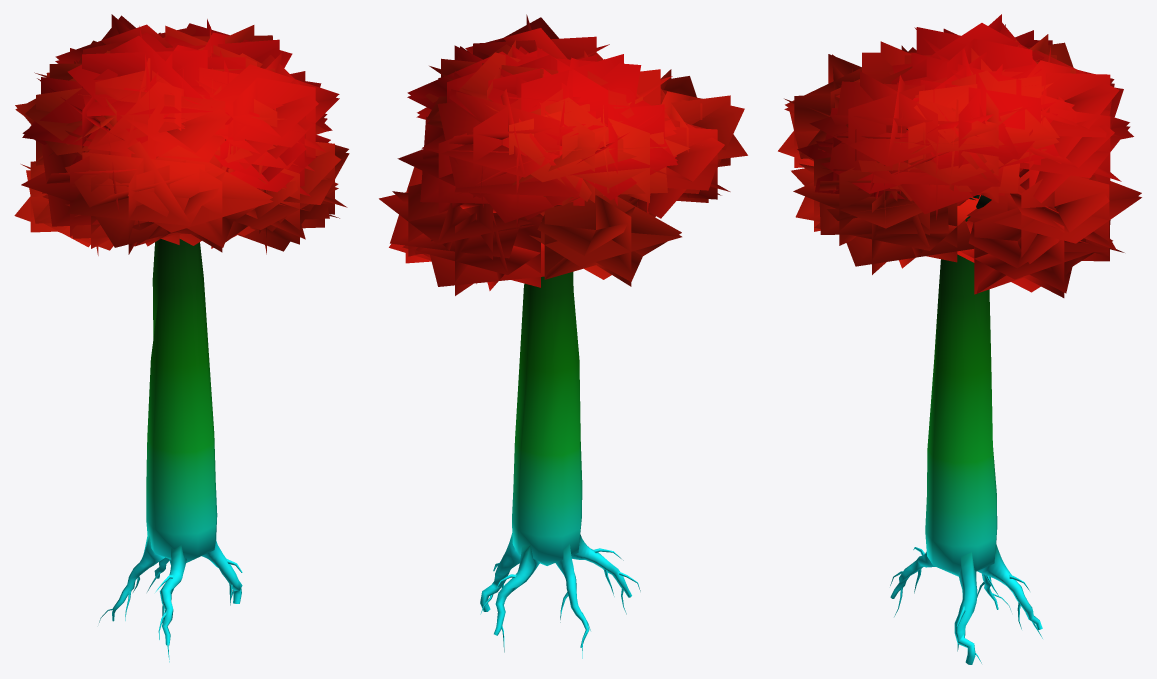
The model's file is Baobab2.fbx.
3 views of the same model, side by side, from view 1: azimuth 30°, elevation 25°; view 2: azimuth 150°, elevation 25°; view 3: azimuth 270°, elevation 25° (orthographic). The views are drawn at different scales.
Visible parts, largest first — view 1: Baobab2_LOD0; view 2: Baobab2_LOD0; view 3: Baobab2_LOD0.
Boxes of the visible parts, <box> form: Baobab2_LOD0: <box>14,14,349,662</box>; Baobab2_LOD0: <box>379,14,747,658</box>; Baobab2_LOD0: <box>778,14,1141,664</box>.
Size of what is drawn, in the model's own units: 702 by 1371 by 748.
